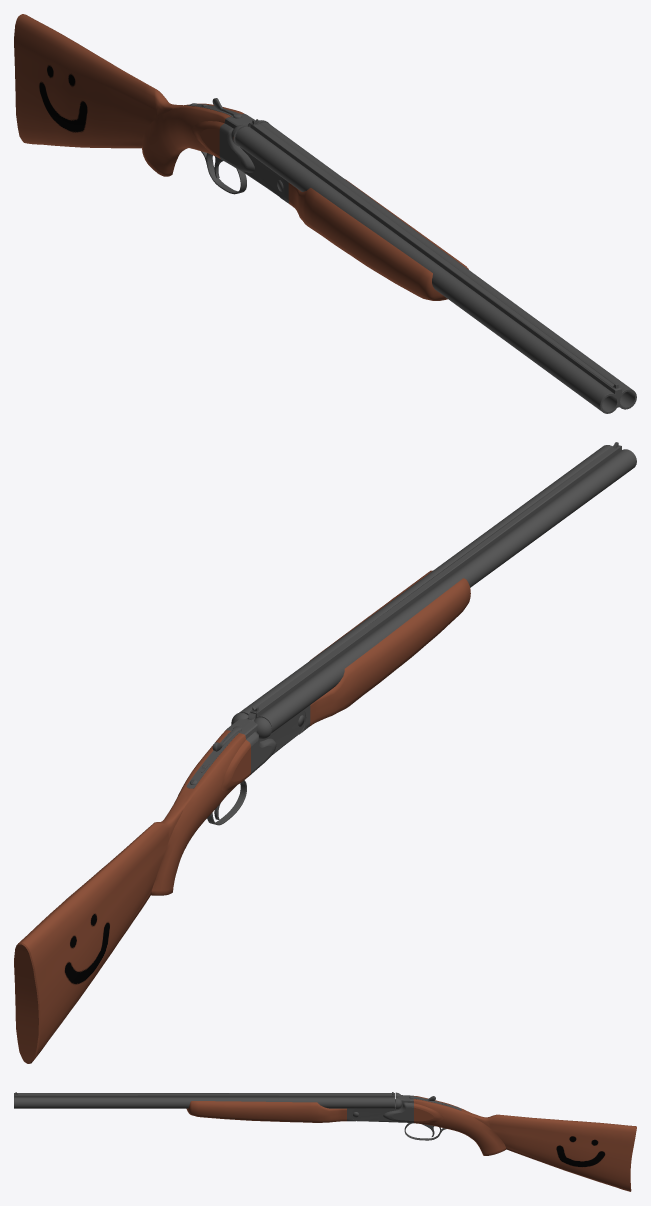
File: o_p_001_shotgun_01_04.fbx
3 renders of one model, top to bottom at view 1: azimuth 30°, elevation 25°; view 2: azimuth 150°, elevation 25°; view 3: azimuth 270°, elevation 25°, orthographic. The views are drawn at different scales.
Parts seen in each view (by area): view 1: shotgun; view 2: shotgun; view 3: shotgun.
Part boxes in pixels (left/top/right/bottom): shotgun: left=14, top=14, right=636, bottom=413; shotgun: left=14, top=442, right=636, bottom=1063; shotgun: left=14, top=1092, right=636, bottom=1191.
Size of the model in its own units: 5.45 by 19.71 by 112.
